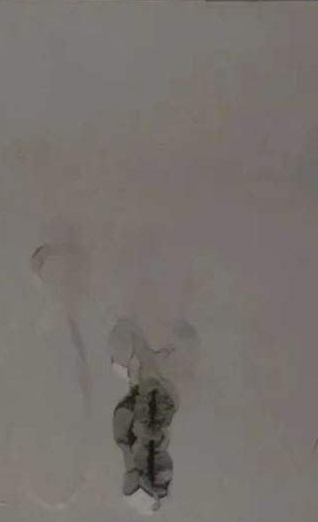Exposed reinforcement: (146, 387, 158, 428), (146, 439, 156, 486), (127, 417, 138, 451)
Spalling: (112, 375, 175, 510)
